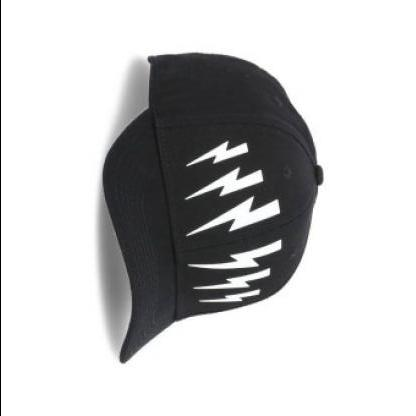cap: (95, 44, 326, 368)
